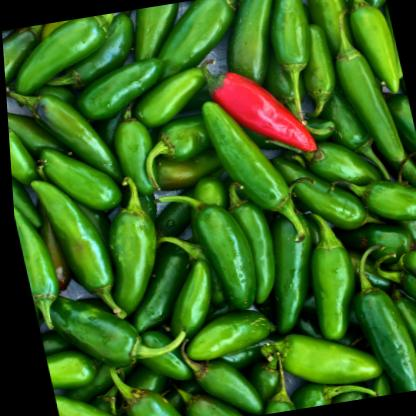chilli_pepper: (195, 87, 299, 256), (25, 168, 121, 325), (195, 53, 318, 168), (81, 167, 165, 318), (343, 237, 416, 395), (178, 180, 258, 312)
